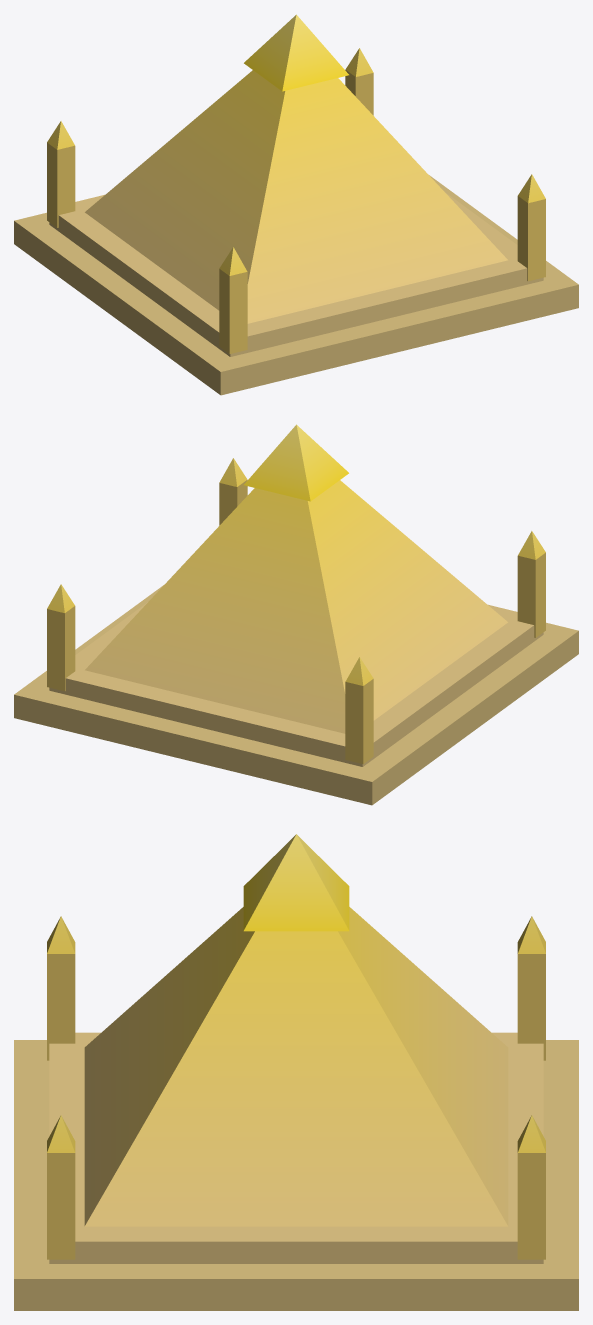
Rendered from great_pyramid.glb.
3 renders of one model, top to bottom at view 1: azimuth 30°, elevation 25°; view 2: azimuth 150°, elevation 25°; view 3: azimuth 270°, elevation 25°, orthographic. The views are drawn at different scales.
Size of the model in its own units: 2.4 by 1.68 by 2.4.
